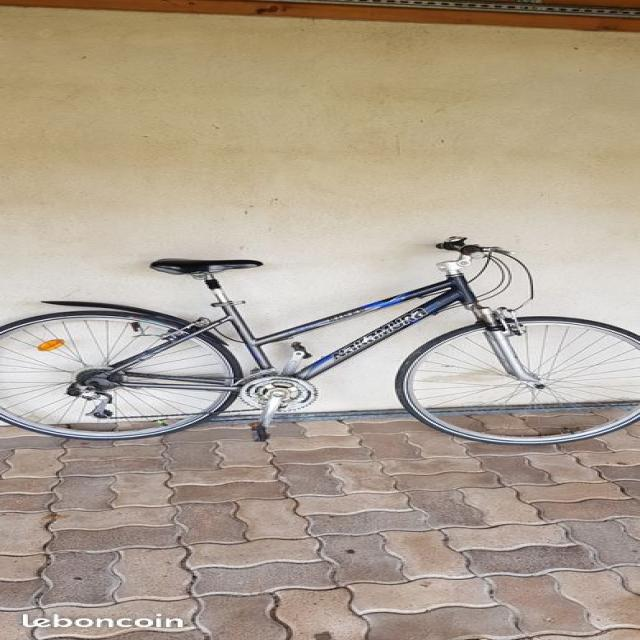Bike: (0, 237, 638, 444)
